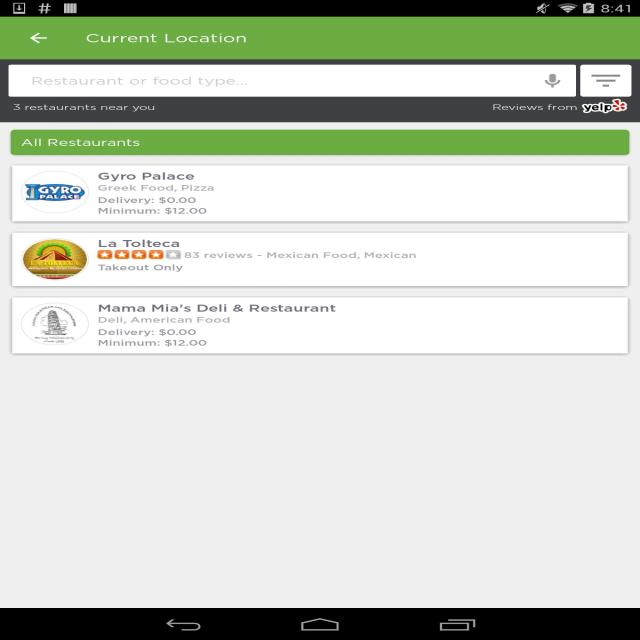button: (11, 164, 627, 223), (13, 296, 627, 352), (12, 232, 628, 284), (580, 66, 632, 97), (535, 67, 573, 94), (23, 26, 54, 51)
field: (9, 64, 576, 97)
heading: (96, 301, 337, 313), (84, 30, 250, 47), (22, 136, 145, 151), (94, 169, 200, 181), (93, 236, 181, 249)
image: (20, 302, 90, 348), (20, 170, 90, 214), (21, 239, 87, 280), (93, 248, 183, 260)
label: (27, 74, 249, 88)
text: (94, 314, 232, 348), (93, 182, 218, 217), (184, 250, 418, 262), (12, 101, 160, 114), (95, 262, 184, 272)
